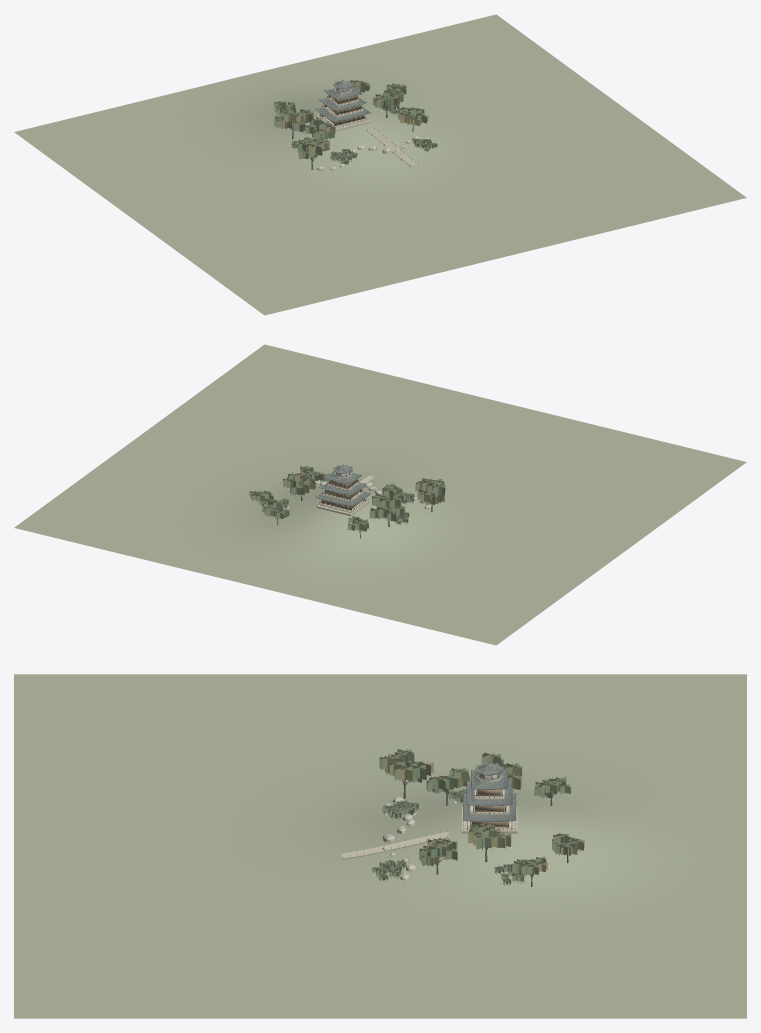
File: wushan-wind.glb
3 renders of one model, top to bottom at view 1: azimuth 30°, elevation 25°; view 2: azimuth 150°, elevation 25°; view 3: azimuth 270°, elevation 25°, orthographic. The views are drawn at different scales.
Visible parts, largest first — view 1: earth, crown1, crown2, crown0, roof, stone, ridge; view 2: earth, crown1, crown2, crown0, roof, ridge; view 3: earth, crown1, crown2, crown0, roof, ridge, stone, stoneedge.
Part boxes in pixels (x1,y1,x2,y2): earth: (14,14,746,315); crown1: (274,80,437,164); crown2: (274,80,424,159); crown0: (274,81,428,158); roof: (315,81,370,121); stone: (316,87,429,170); ridge: (315,79,370,121); earth: (14,344,746,645); crown1: (249,467,442,531); crown2: (250,467,444,531); crown0: (254,465,445,531); roof: (316,465,370,505); ridge: (315,464,370,506); earth: (14,674,746,1018); crown1: (372,751,577,883); crown2: (383,751,584,875); crown0: (379,748,582,874); roof: (463,763,515,821); ridge: (463,761,515,821); stone: (341,773,517,883); stoneedge: (342,789,515,859).
Bounding box in the file's own units: 250 × 29.01 × 225.
